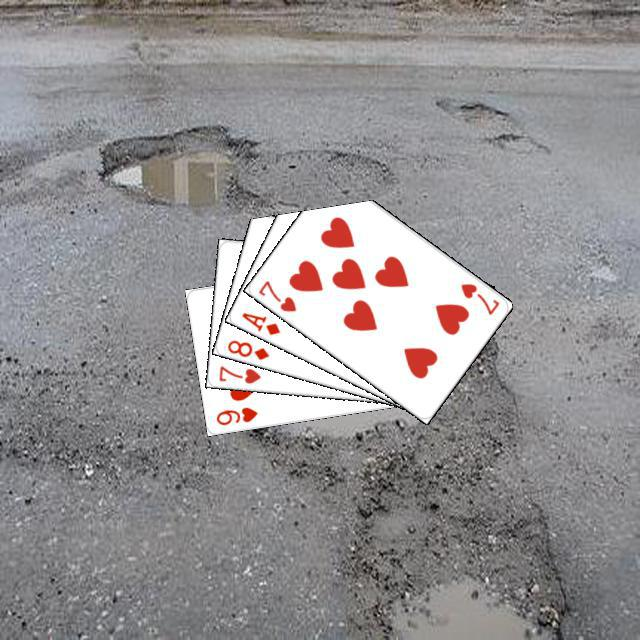7h: (253, 275, 298, 314), (456, 278, 501, 317), (214, 361, 262, 385)
8d: (223, 335, 271, 362)
9h: (211, 402, 259, 427)
Ad: (236, 307, 282, 337)
